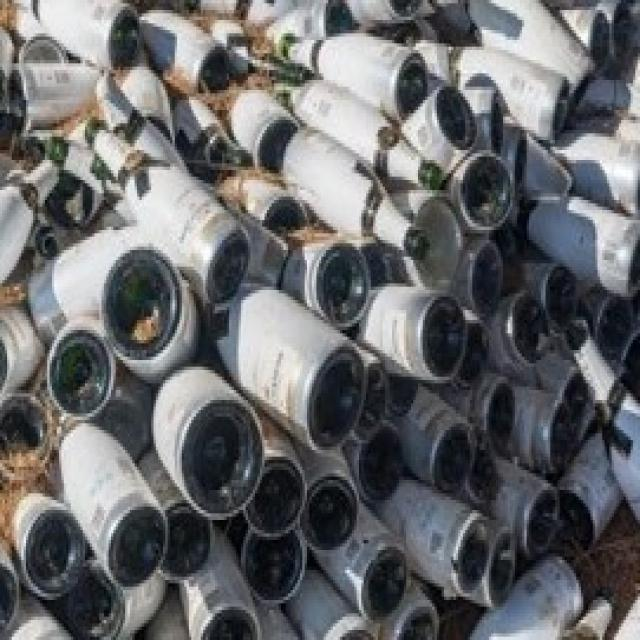electronic: (204, 262, 363, 449), (38, 392, 173, 588), (270, 115, 436, 272), (148, 364, 268, 521), (95, 238, 212, 389), (358, 264, 468, 394), (3, 45, 119, 158), (273, 227, 374, 340), (0, 485, 90, 608), (228, 500, 313, 617), (440, 133, 524, 249), (391, 78, 478, 188), (294, 429, 364, 557), (234, 434, 311, 537)
